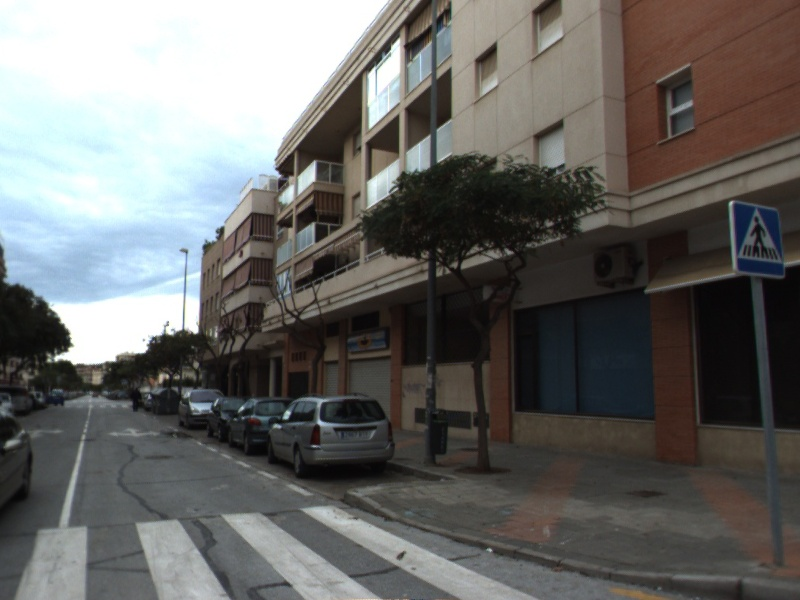STRAIGHT_LEFT_RIGHT: (104, 425, 162, 440)
